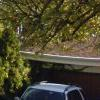Car: (19, 73, 89, 100)
